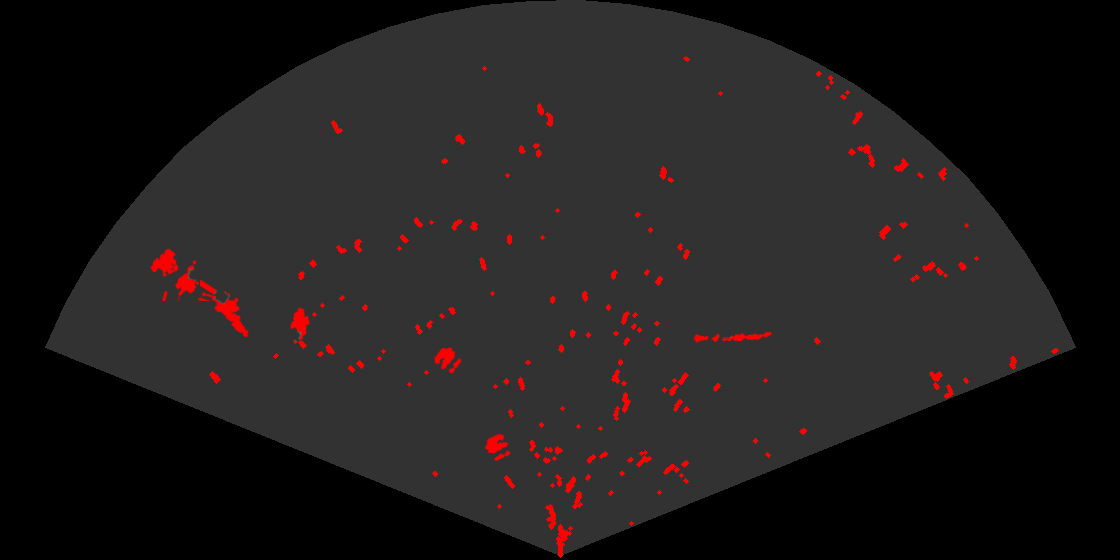AUV: (289, 305, 312, 346)
ball: (483, 432, 512, 463), (433, 346, 463, 375)
cage: (148, 247, 216, 301)
chain: (693, 330, 773, 345)
frogman: (200, 280, 250, 339)
